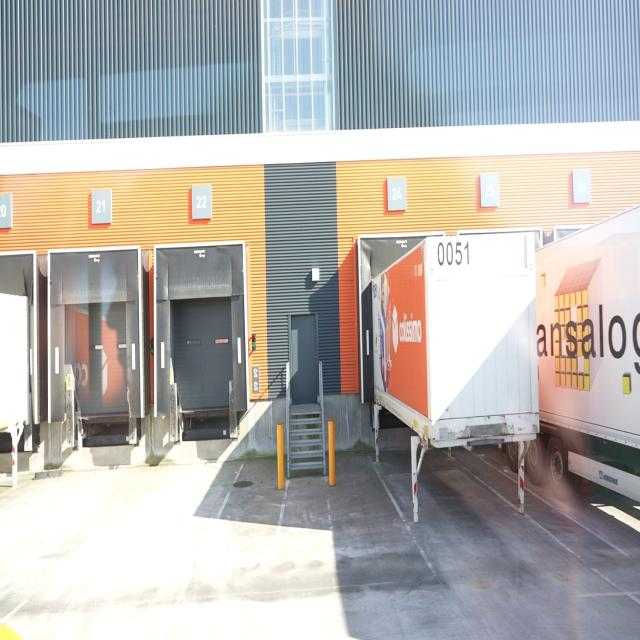Code: (435, 237, 474, 268)
